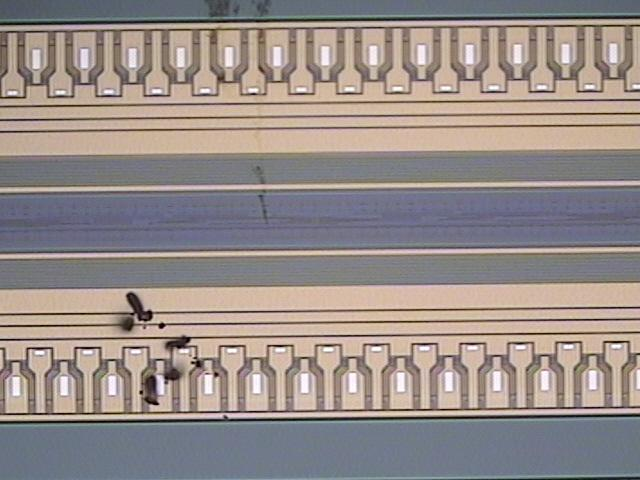PO CONTAMINATION: (112, 1, 284, 426)
